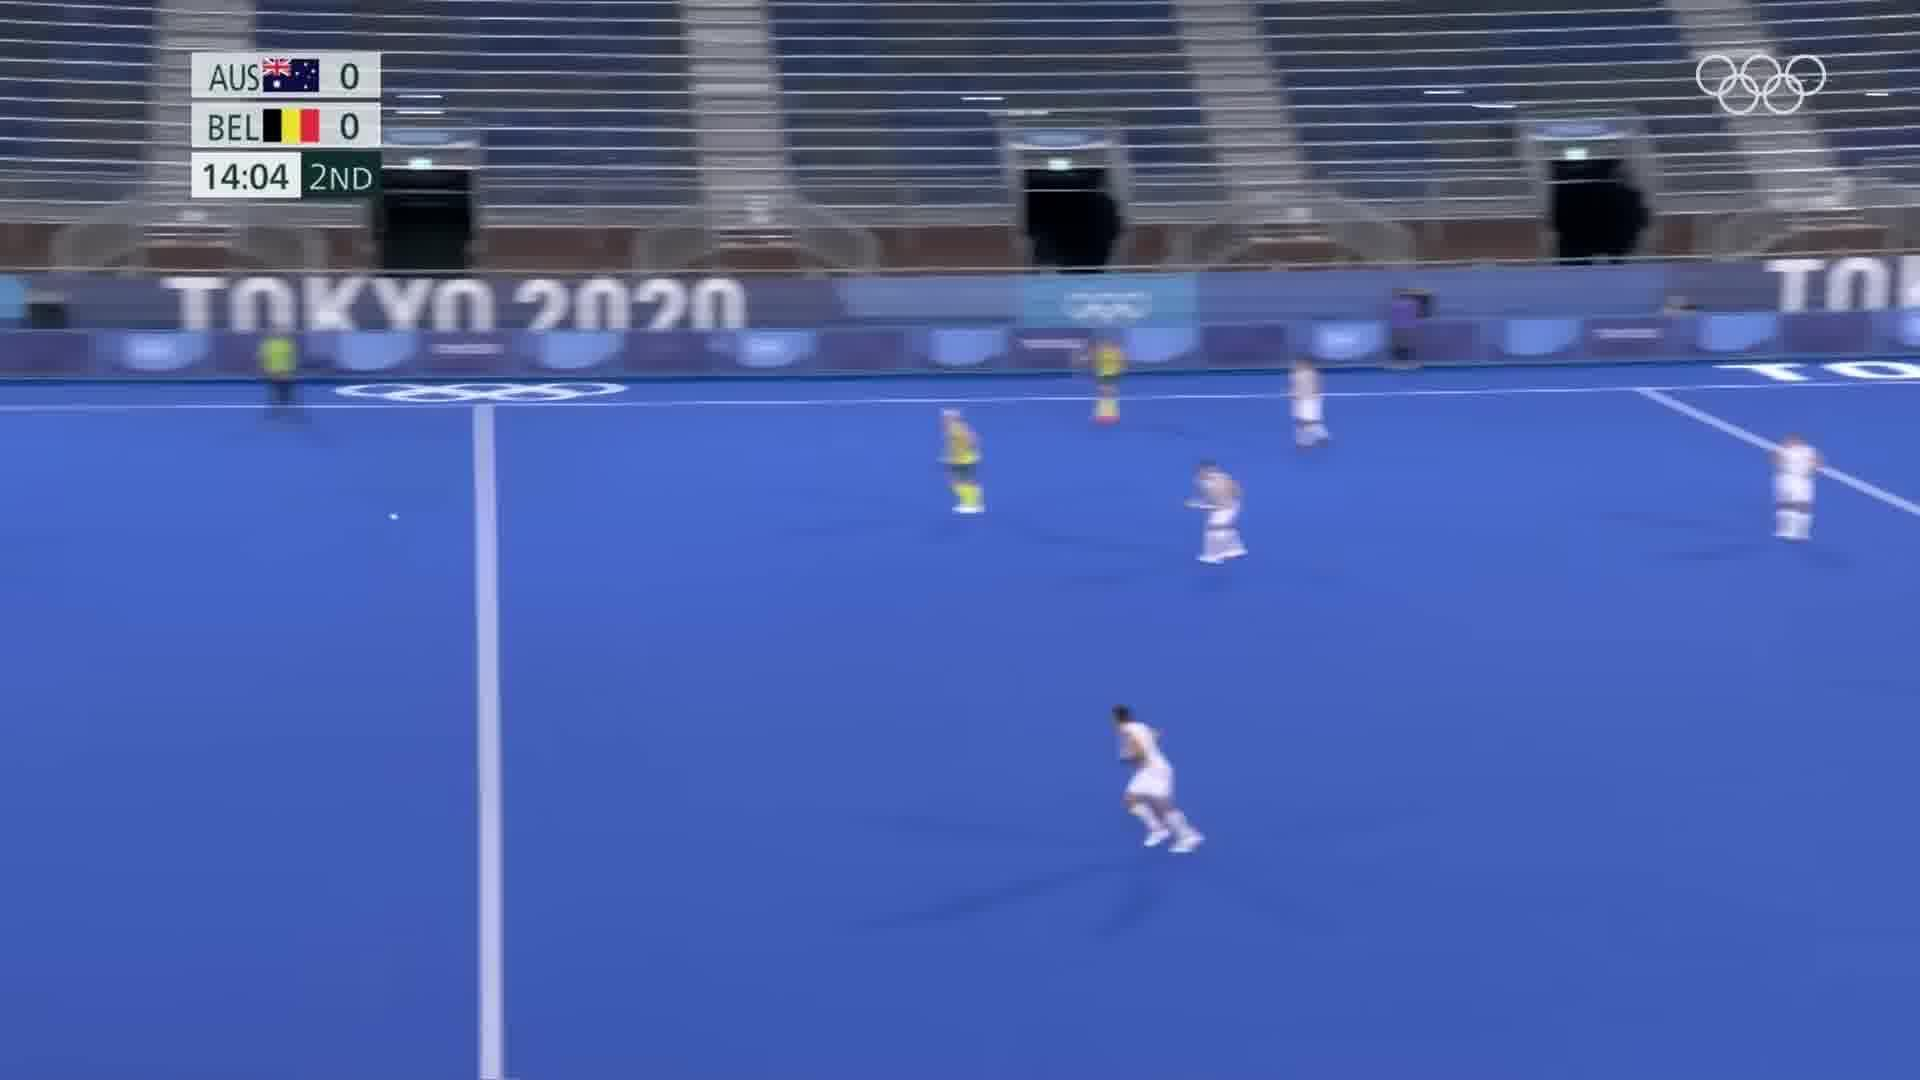ball: (382, 512, 405, 524)
